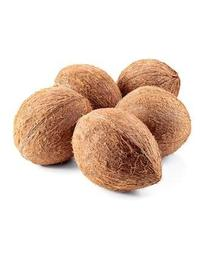coconut: (72, 105, 164, 193), (12, 85, 94, 167), (114, 86, 192, 164), (56, 63, 121, 116), (119, 60, 179, 106)
